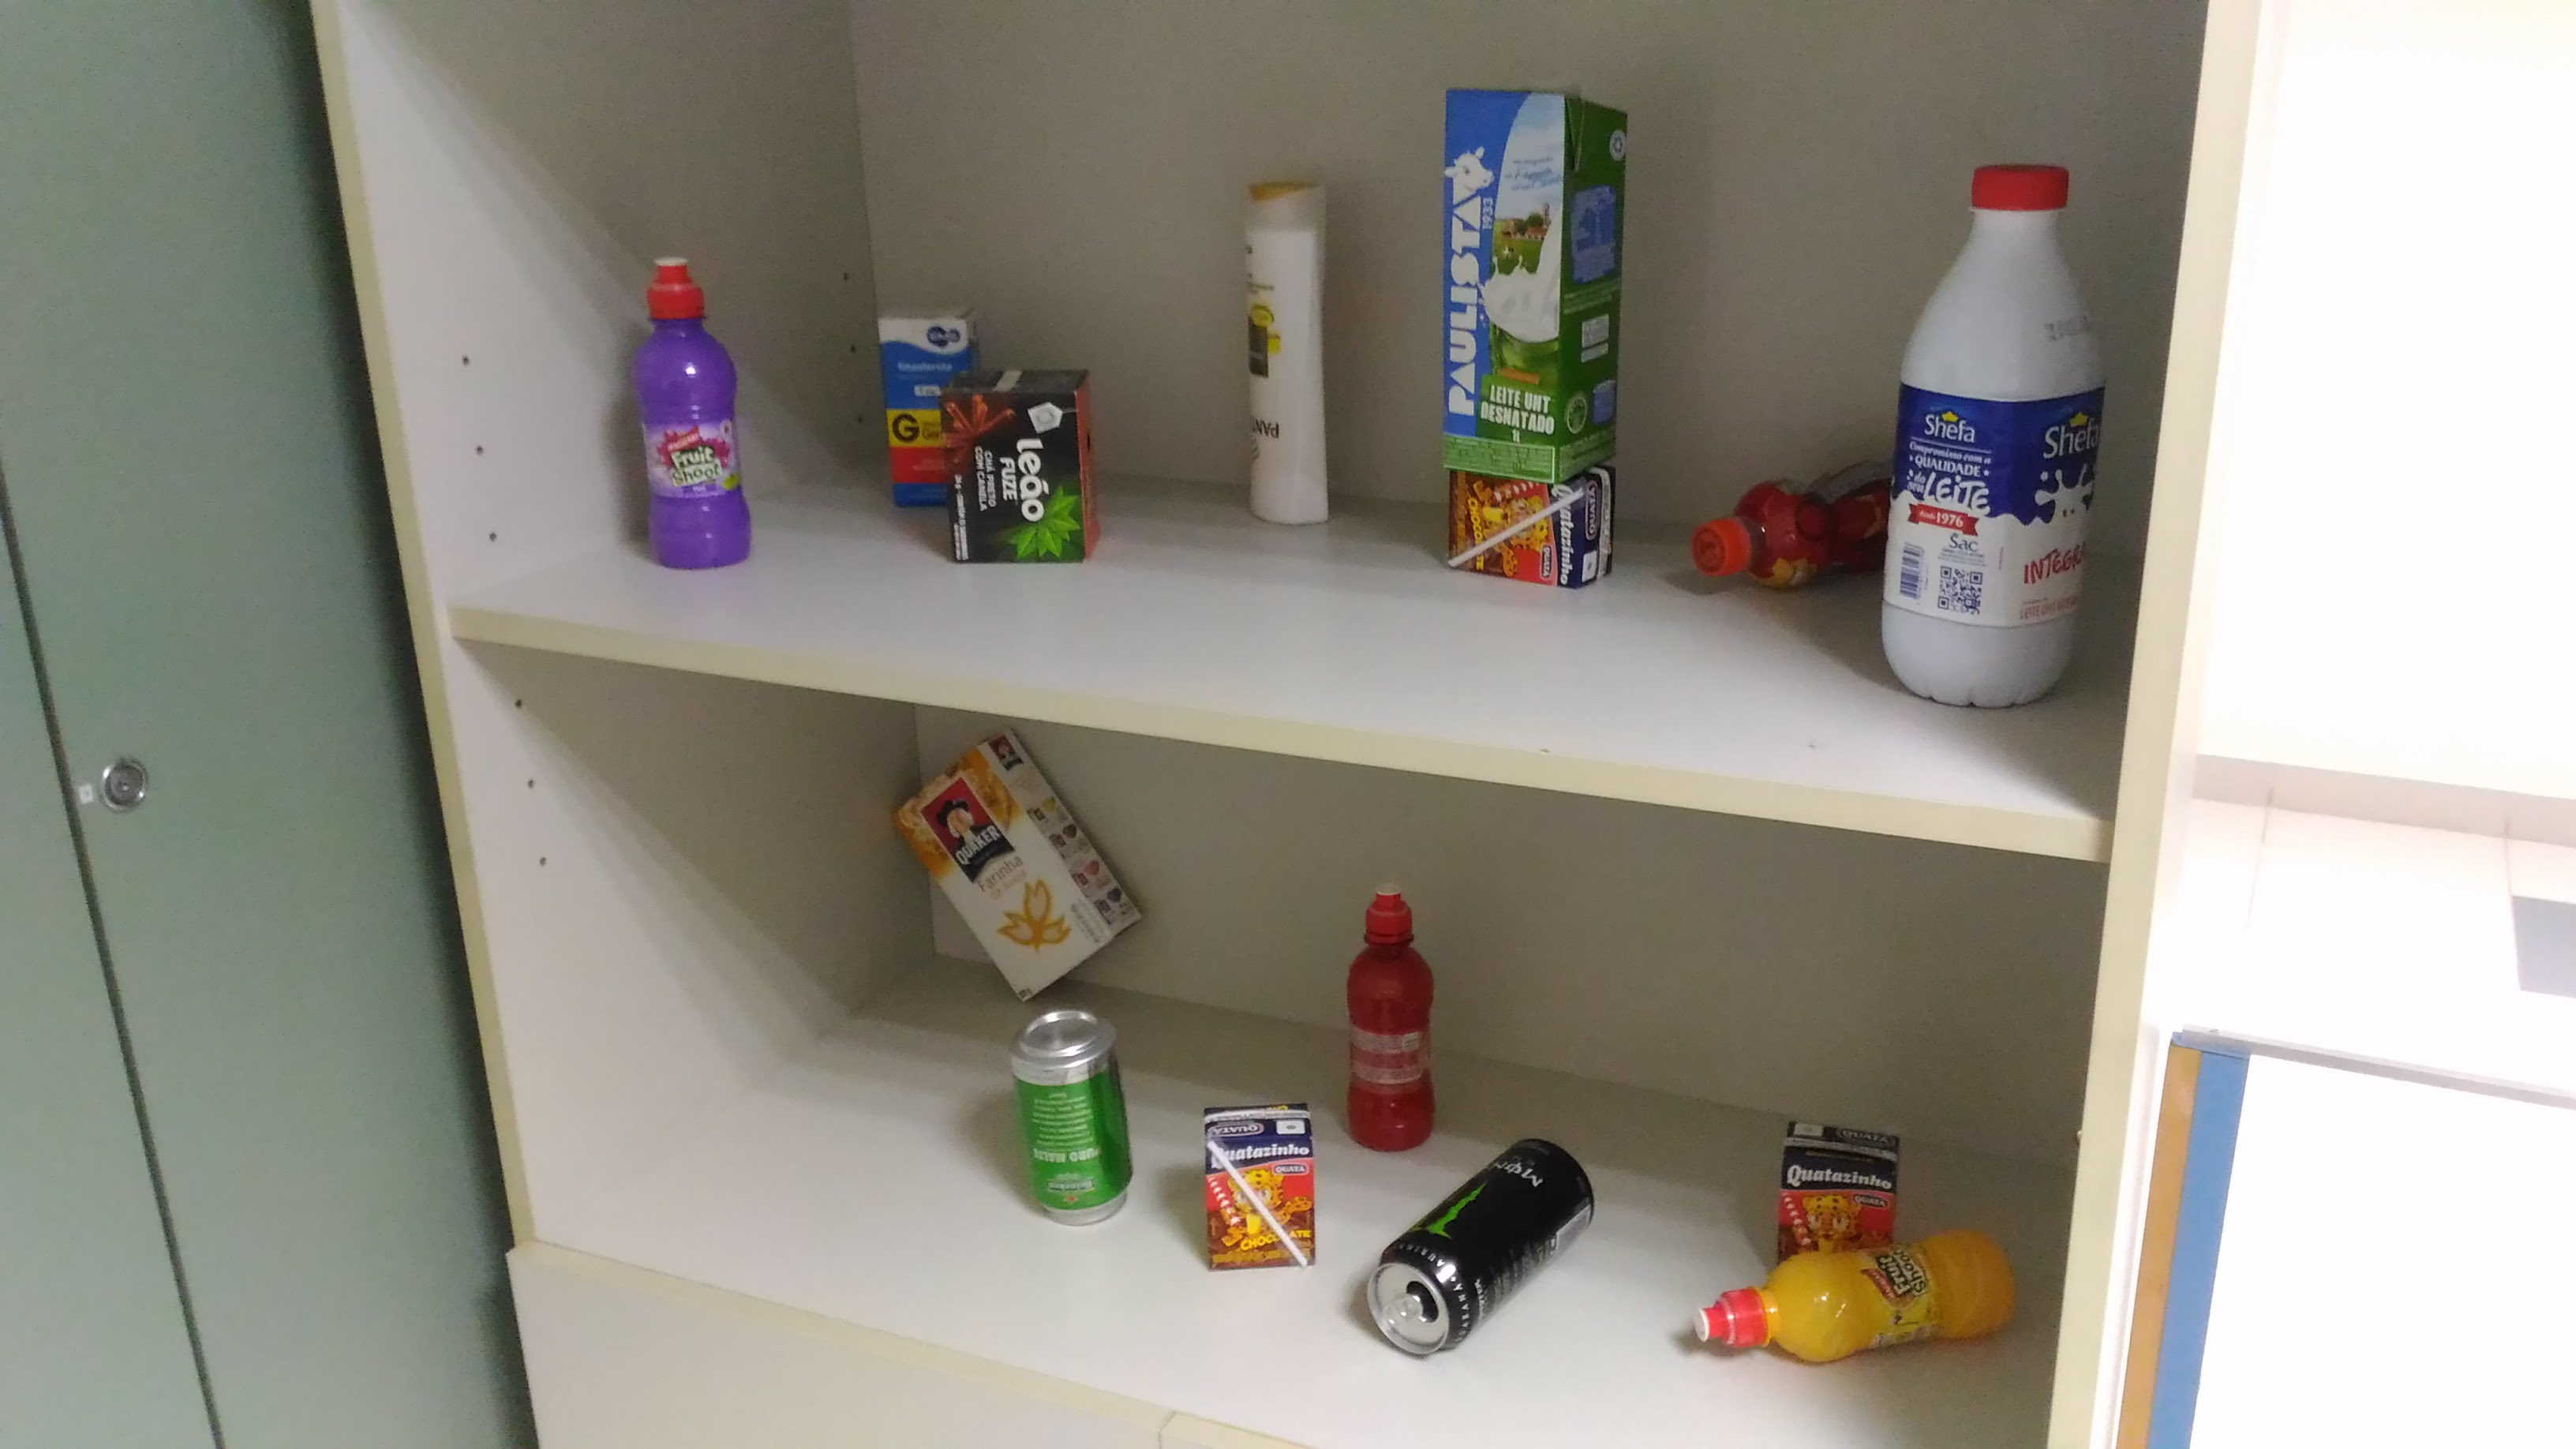cereal: (887, 705, 1151, 1020)
chocolate_milk: (1191, 1084, 1325, 1285), (1436, 472, 1621, 594)
heineken: (1002, 1005, 1144, 1249)
iron_man: (1680, 464, 1893, 602)
medicine: (867, 306, 958, 515)
milk_bottle: (1874, 148, 2118, 713)
milk_box: (1432, 62, 1633, 488)
monster: (1357, 1131, 1597, 1376)
purple_juice: (619, 255, 765, 582)
red_juice: (1329, 871, 1447, 1163)
shampoo: (1226, 160, 1349, 559)
tea_box: (950, 358, 1100, 563)
yellow_juice: (1692, 1218, 2024, 1383)
